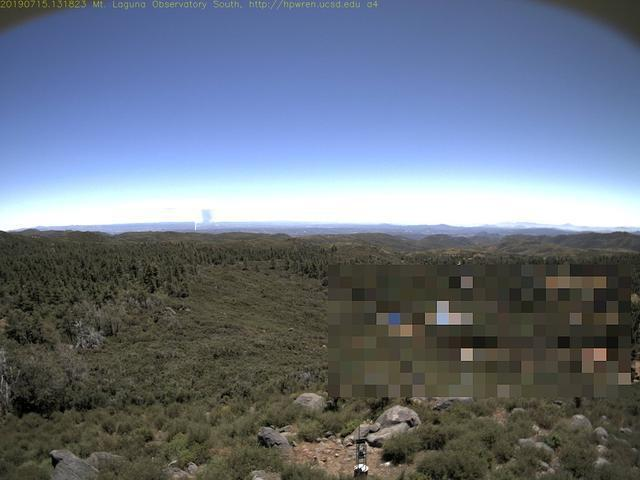smoke: (196, 207, 217, 232)
